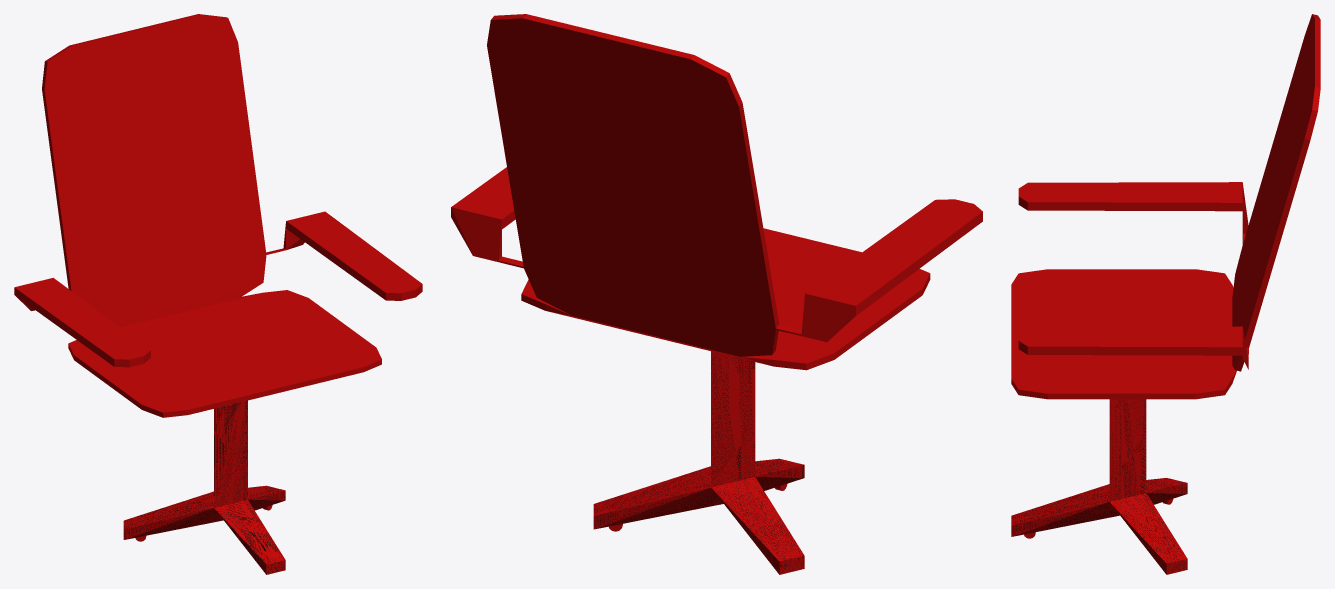
Rendered from simpleChair.dae.
3 views of the same model, side by side, from view 1: azimuth 30°, elevation 25°; view 2: azimuth 150°, elevation 25°; view 3: azimuth 270°, elevation 25° (orthographic). The views are drawn at different scales.
Visible parts, largest first — view 1: SketchUp; view 2: SketchUp; view 3: SketchUp.
Boxes of the visible parts, bbox=[...] form: SketchUp: bbox=[14, 14, 422, 574]; SketchUp: bbox=[451, 14, 982, 574]; SketchUp: bbox=[1011, 14, 1320, 574].
Size of the model in its own units: 0.8077 by 0.6399 by 1.11.
